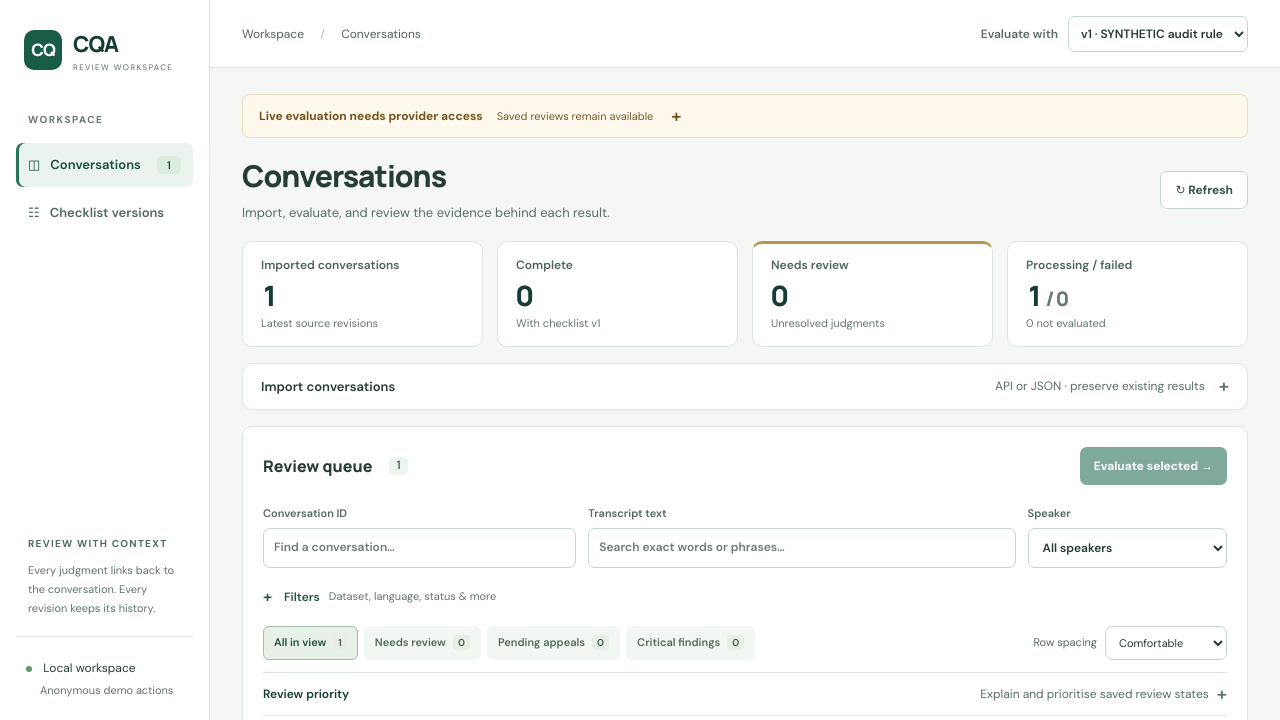
deduplicates a slow queue poll and manual refresh and stops polling when complete
The width and height of the screenshot is (1280, 720).
Click the button "↻ Refresh": (1204, 190) [1160, 171, 1248, 209]
Wait 20000 ms
(page scrolled)
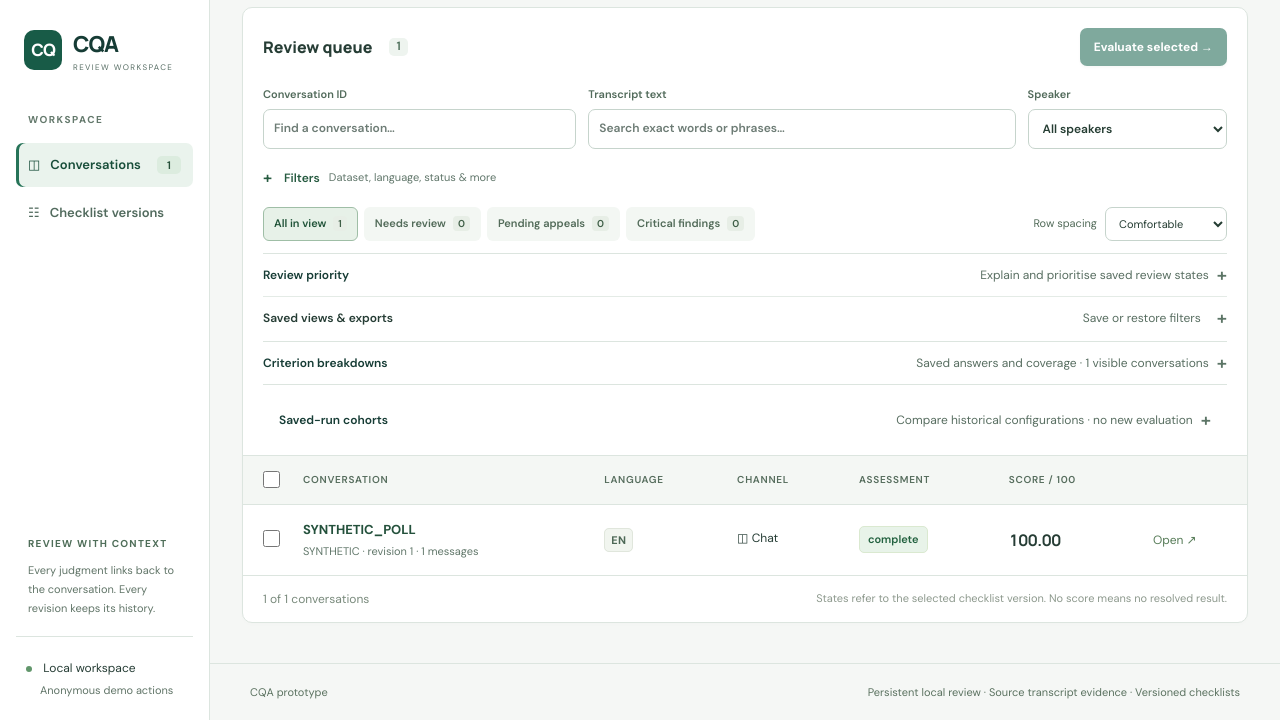
Expected: the text "100.00" is shown, [993, 504, 1137, 575]
